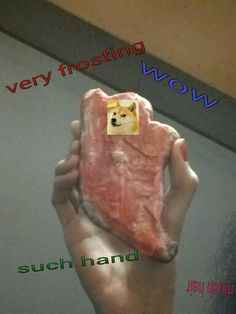doge: (109, 100, 137, 133)
